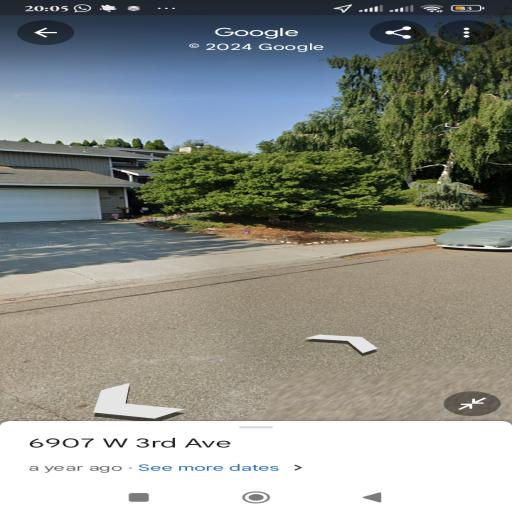Roads: (0, 232, 512, 416)
Trees: (358, 56, 495, 204)
